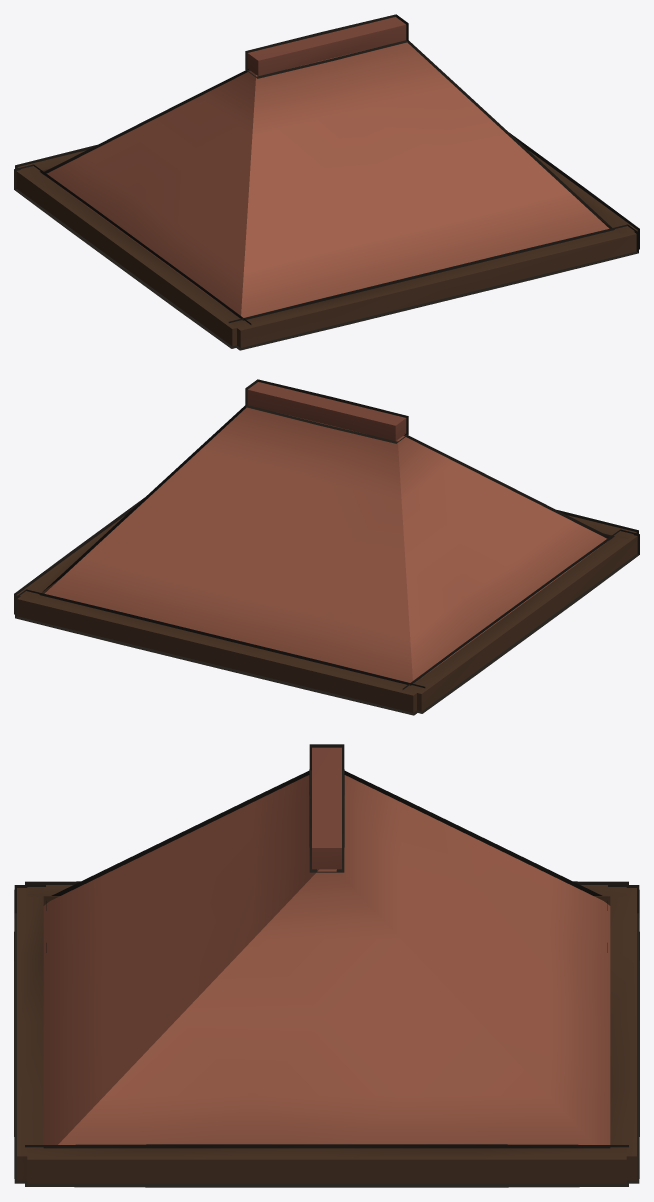
File: toit_croupe.glb
3 views of the same model, one above another, from view 1: azimuth 30°, elevation 25°; view 2: azimuth 150°, elevation 25°; view 3: azimuth 270°, elevation 25° (orthographic). The views are drawn at different scales.
Visible parts, largest first — view 1: toit_croupe, toit_croupe_outline; view 2: toit_croupe, toit_croupe_outline; view 3: toit_croupe, toit_croupe_outline.
Part boxes in pixels (bbox=[...]): toit_croupe: bbox=[16, 17, 637, 347]; toit_croupe_outline: bbox=[14, 14, 639, 350]; toit_croupe: bbox=[16, 382, 637, 712]; toit_croupe_outline: bbox=[14, 379, 639, 715]; toit_croupe: bbox=[17, 747, 636, 1183]; toit_croupe_outline: bbox=[14, 744, 639, 1187].
Size of the model in its own units: 2.21 by 0.9448 by 2.11.
